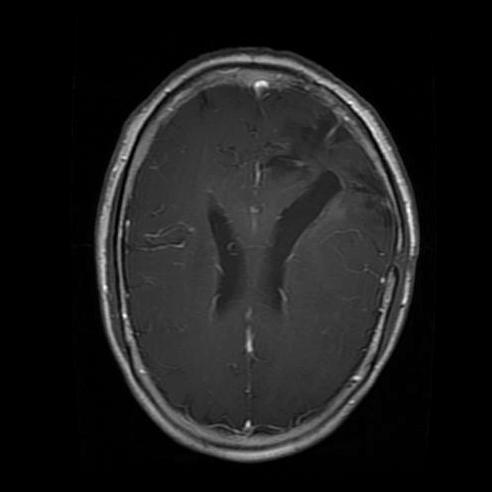Tumour-Glioma: (271, 117, 400, 232)
